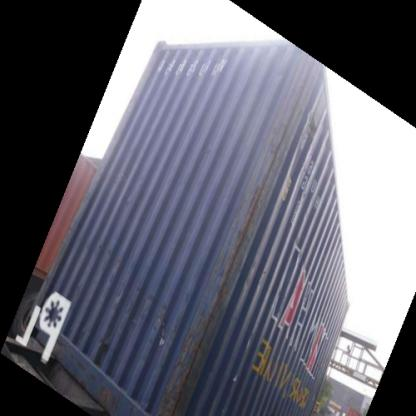Damage: (164, 137, 260, 408), (269, 57, 311, 221)
